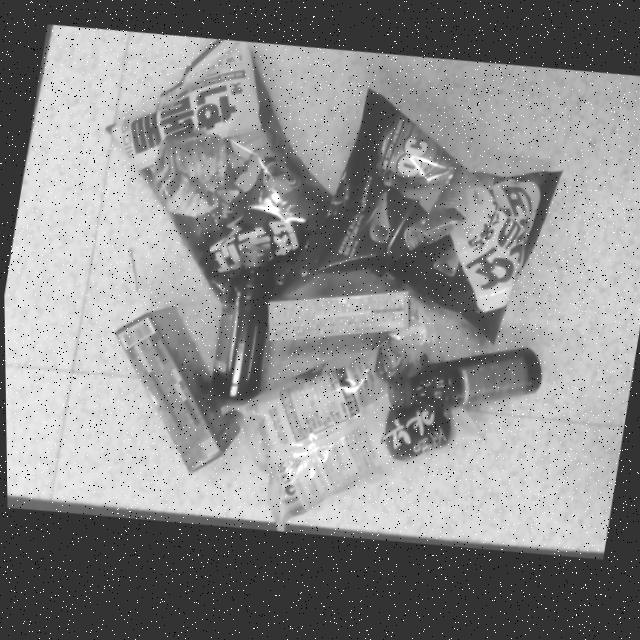bongji: (102, 42, 372, 324), (304, 98, 564, 354), (217, 313, 484, 537)
box: (114, 309, 243, 477), (268, 298, 408, 345)
energdrink: (210, 254, 273, 406), (391, 359, 541, 416)
